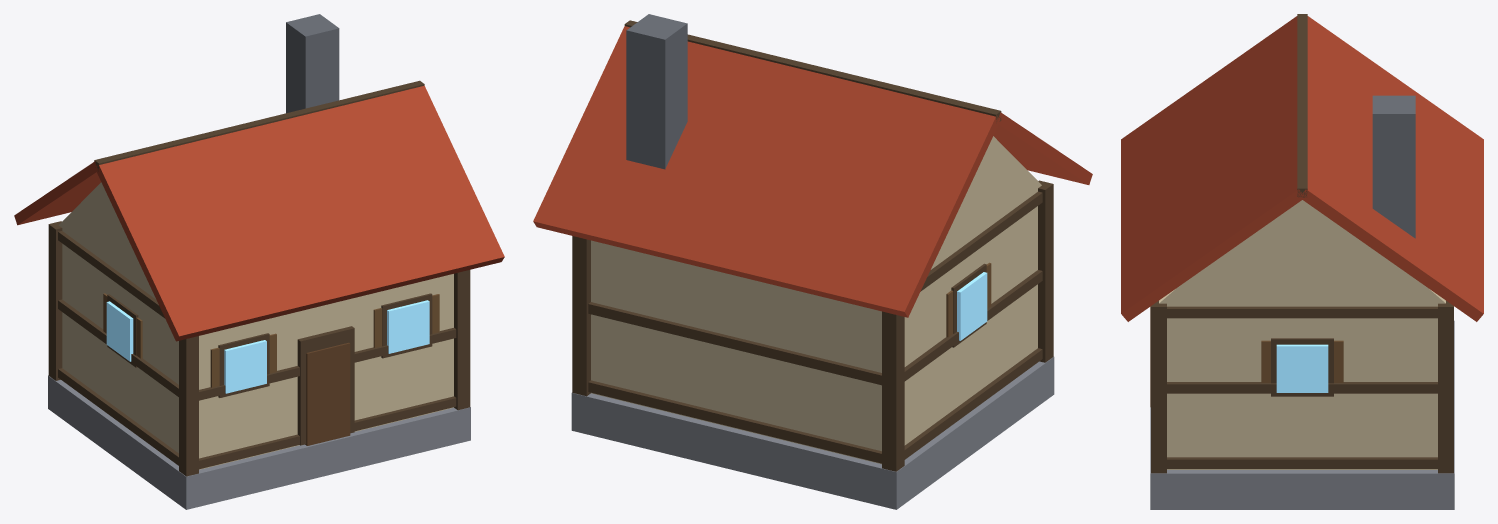
File: Building_0.glb
The picture shows the model from 3 angles, left to right: view 1: azimuth 30°, elevation 25°; view 2: azimuth 150°, elevation 25°; view 3: azimuth 270°, elevation 25°; orthographic projection. The views are drawn at different scales.
Size of the model in its own units: 7.2 by 7.3 by 6.32.
